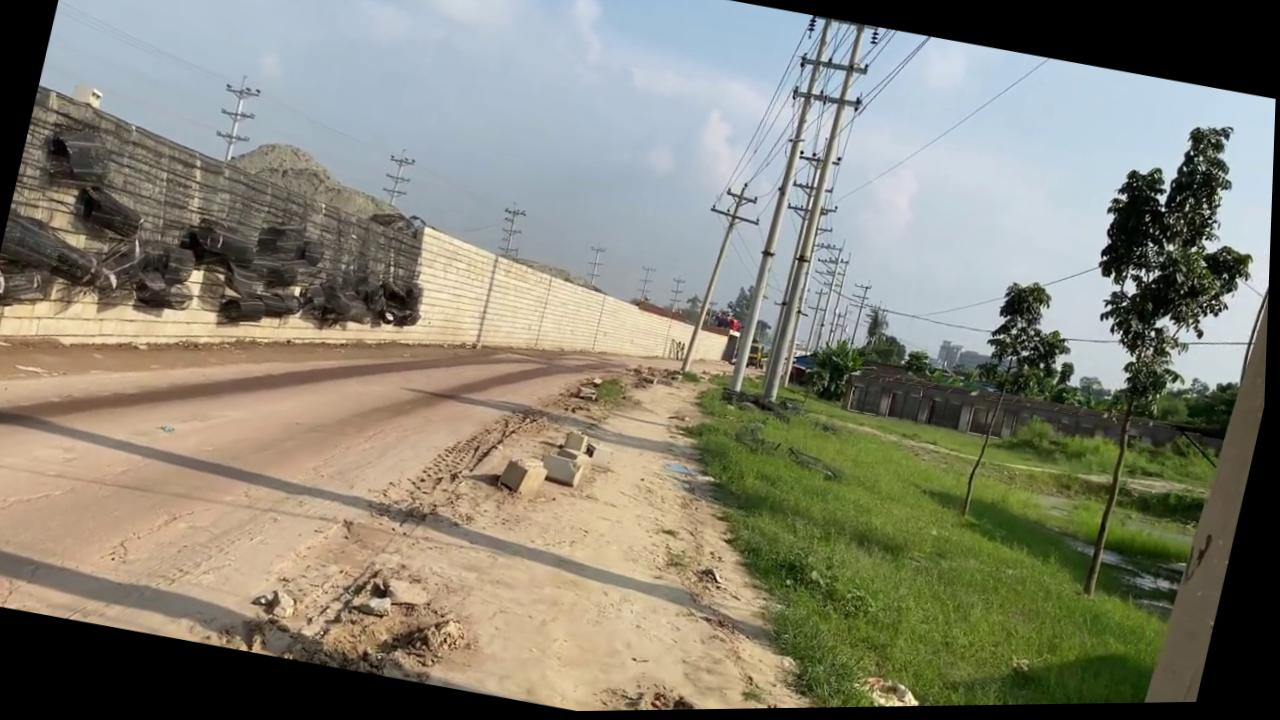Garbage: (0, 114, 453, 384)
Muddy road: (0, 217, 938, 720)
Obstacle: (496, 416, 618, 515), (498, 454, 552, 501), (540, 451, 591, 490), (562, 428, 594, 457)
Pole: (1119, 102, 1277, 707), (758, 24, 877, 409), (726, 18, 834, 399), (675, 178, 769, 382)
Sidewalk: (1043, 528, 1194, 626)
Traffic-sign: (1022, 108, 1276, 617), (945, 275, 1086, 532)
Tree: (732, 337, 770, 373), (747, 342, 770, 371)
Upstairs: (0, 74, 765, 476)
